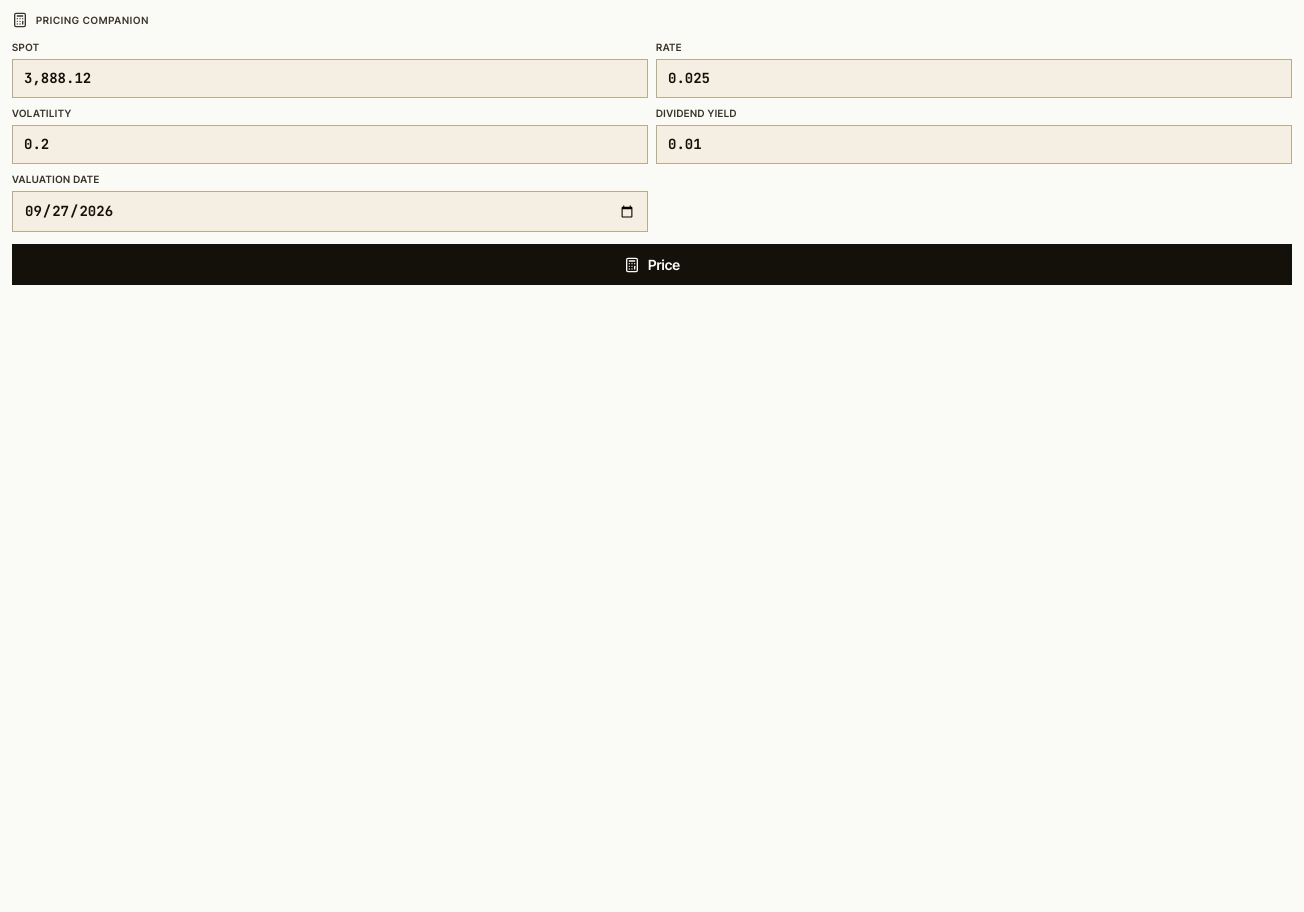
it: BookingPricingCompanion › prices on demand and renders PV + greek tiles
Expected: the field labelled "Spot" is shown, left=12, top=59, right=648, bottom=98
Click the button "Price" at (652, 264), box left=12, top=244, right=1292, bottom=285
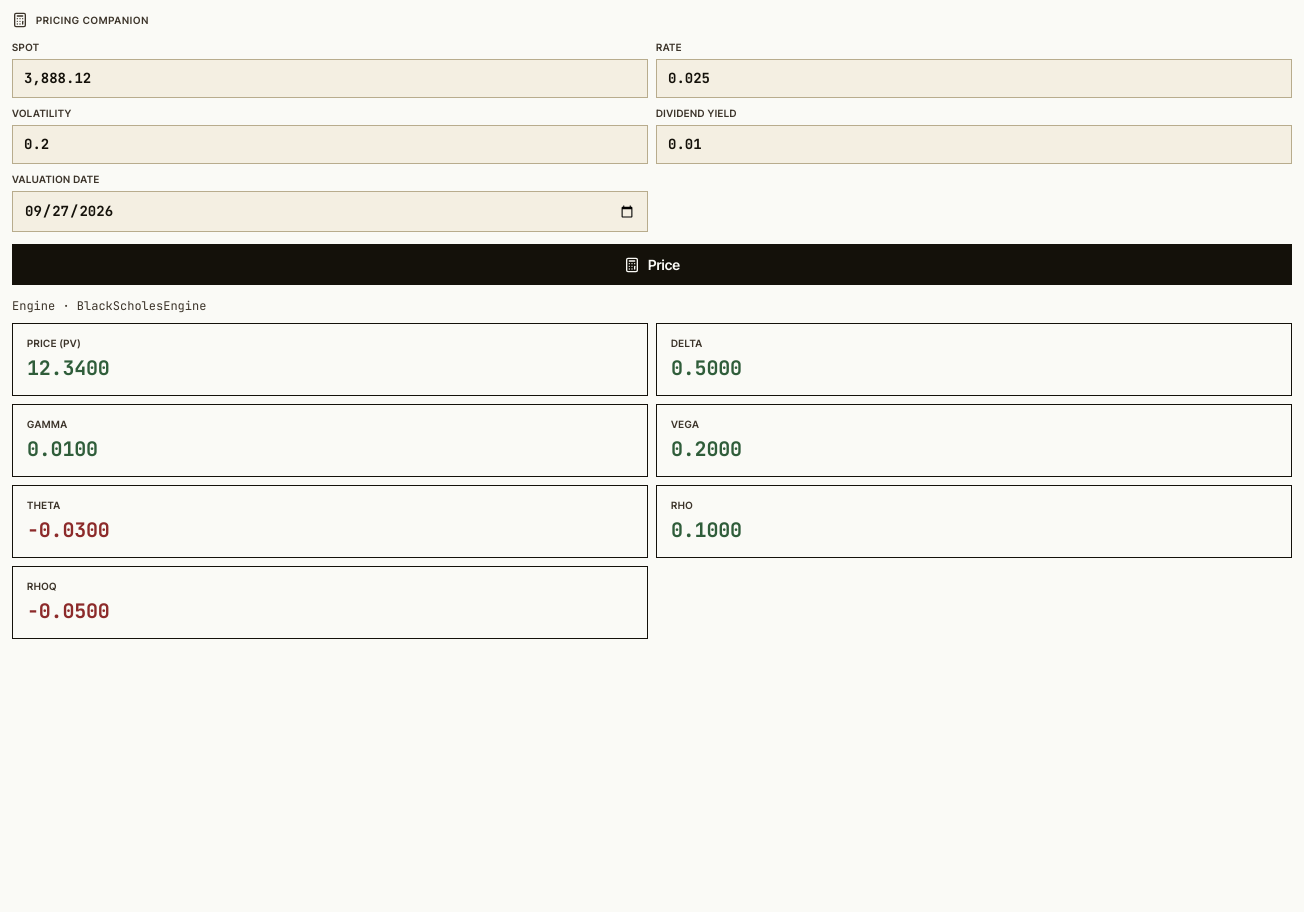
Result: the text "Price (PV)" is shown at left=27, top=337, right=81, bottom=349
Result: the text "12.3400" is shown at left=27, top=355, right=110, bottom=381
Result: the text "Delta" is shown at left=671, top=337, right=703, bottom=349
